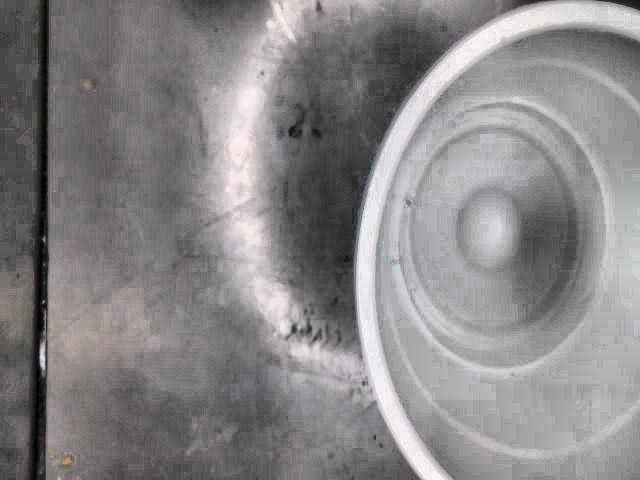Plastic: (355, 0, 640, 480)
